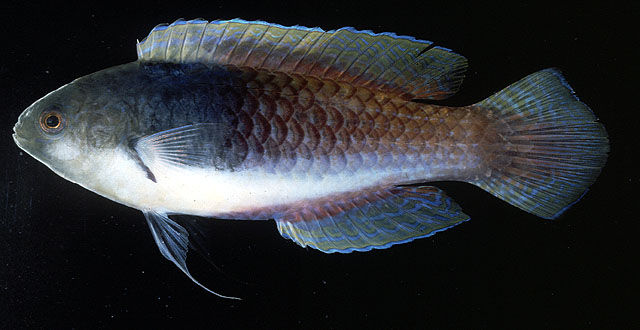fish: (14, 18, 610, 302)
